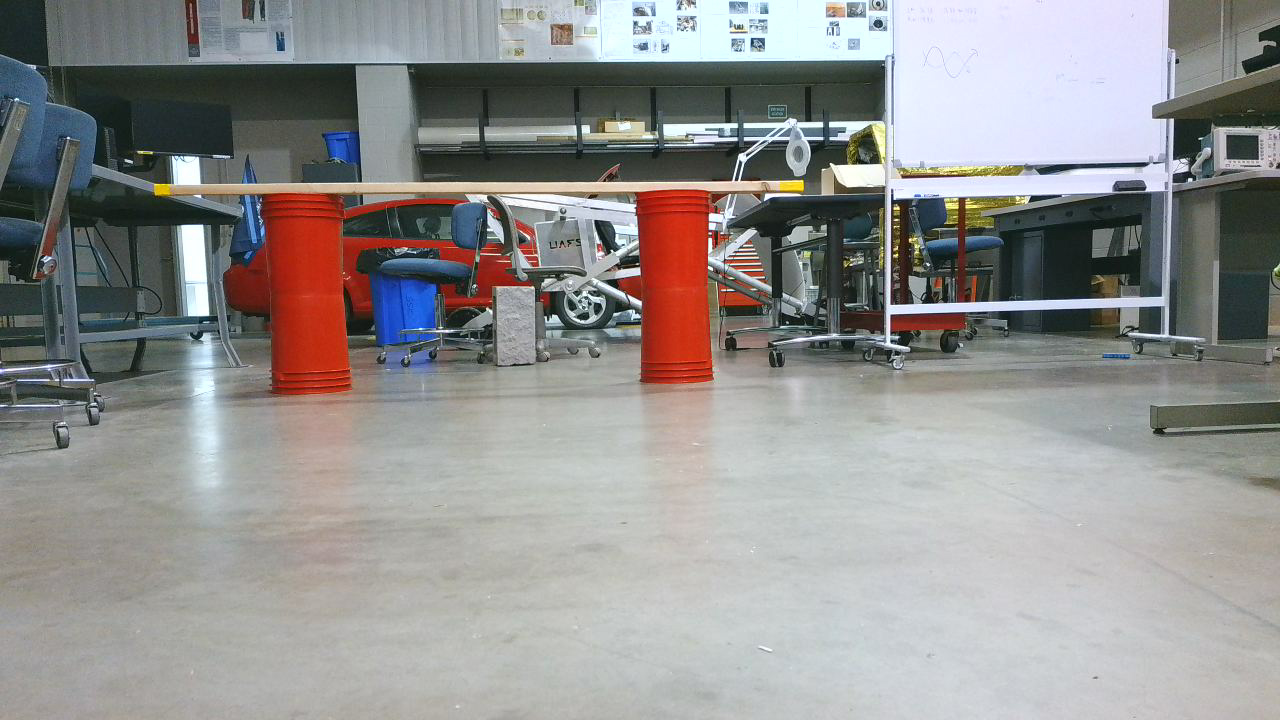red_bucket_arch: (259, 195, 727, 401)
